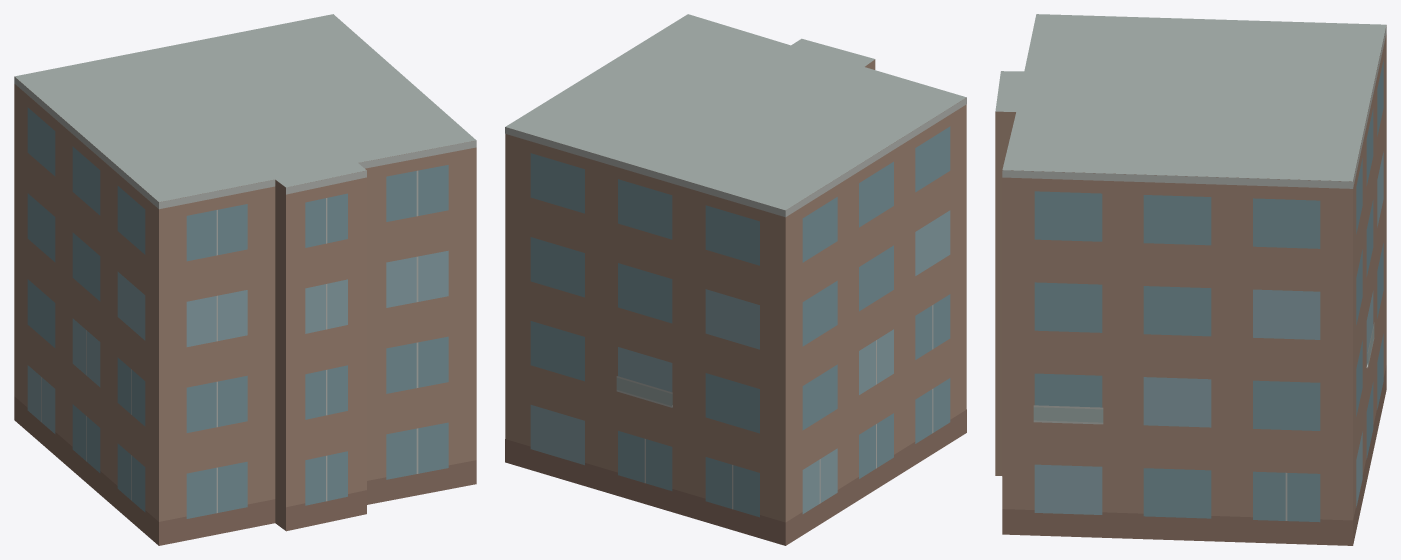
The model's file is survey-upis-32807032.glb.
3 views of the same model, side by side, from view 1: azimuth 30°, elevation 25°; view 2: azimuth 150°, elevation 25°; view 3: azimuth 270°, elevation 25° (orthographic). The views are drawn at different scales.
Parts seen in each view (by area): view 1: survey-upis-32807032.tmp; view 2: survey-upis-32807032.tmp; view 3: survey-upis-32807032.tmp.
Part boxes in pixels (<box>): survey-upis-32807032.tmp: <box>14,14,476,545</box>; survey-upis-32807032.tmp: <box>505,14,966,545</box>; survey-upis-32807032.tmp: <box>995,14,1386,545</box>.
Size of the model in its own units: 11.79 by 11.95 by 11.64.
